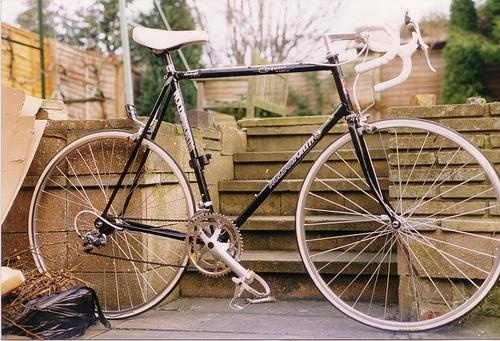bicycle: (25, 10, 496, 333)
